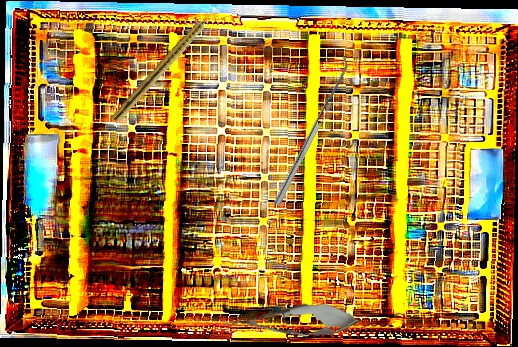Handpiece: (110, 5, 221, 126)
Micro Scissor: (218, 301, 363, 341)
Spatula Surgical: (267, 54, 354, 207)
